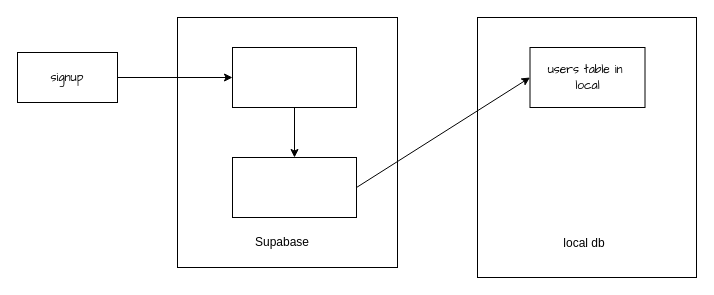
This 714x295 diagram has some shape labels left out. Here are the shapes that lost their labels. From the top down, the centre of each, then its label:
At (294,77): "users table in supabase".
At (294,187): "after signup it triggers function".
